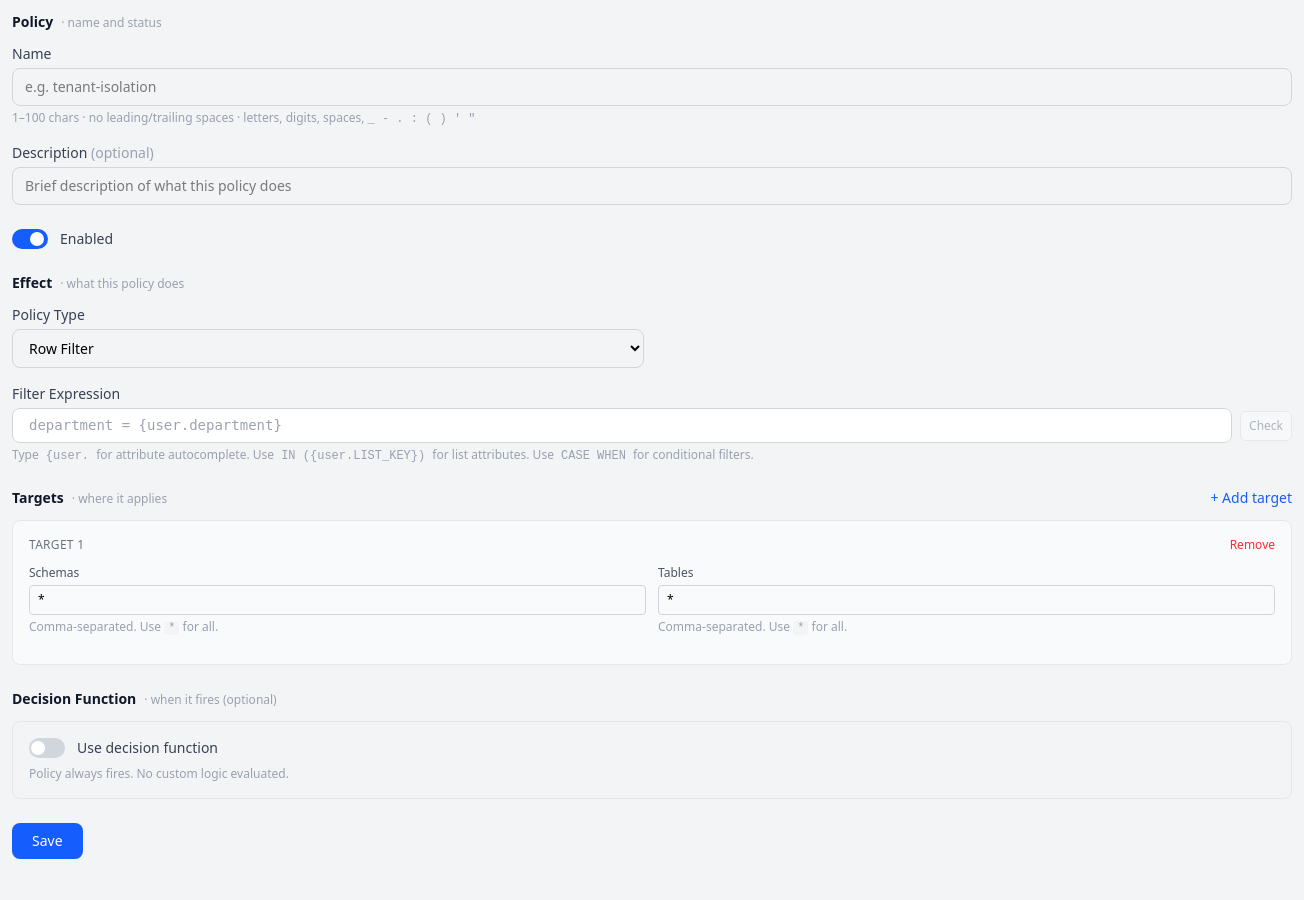
Test: PolicyForm — targets › adds a target when "+ Add target" is clicked
Click the button "+ Add target": (1251, 498) [1210,488,1292,508]
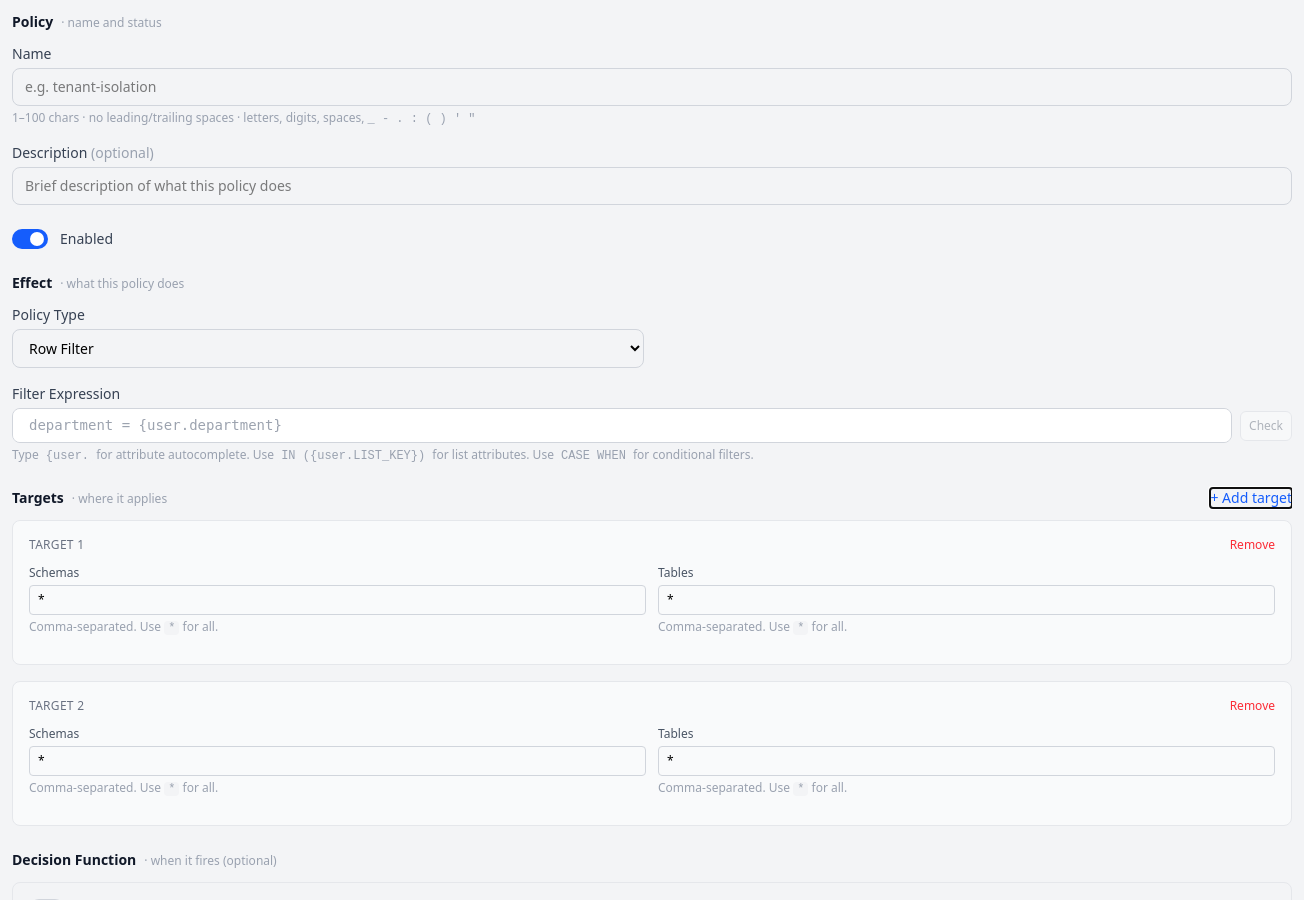
Expected: the text "Target 2" is shown, [29,698,84,714]
